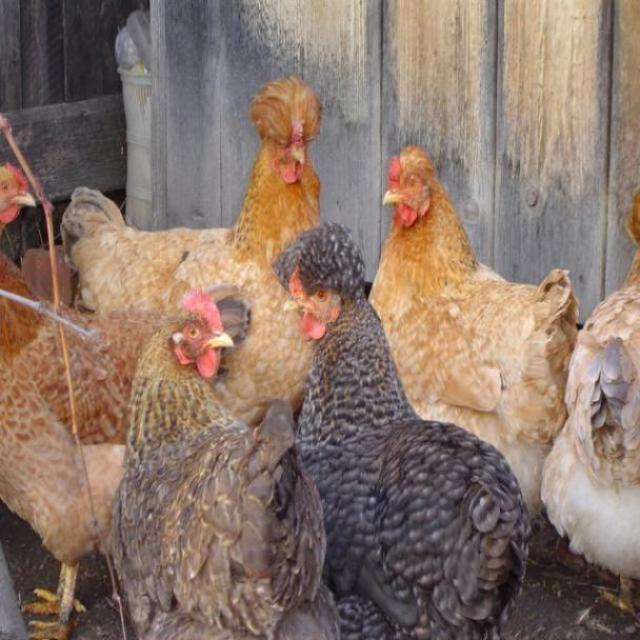Chicken: (370, 143, 573, 486), (117, 298, 277, 640), (0, 256, 119, 636), (269, 223, 406, 513), (242, 87, 327, 224), (0, 157, 37, 228)
